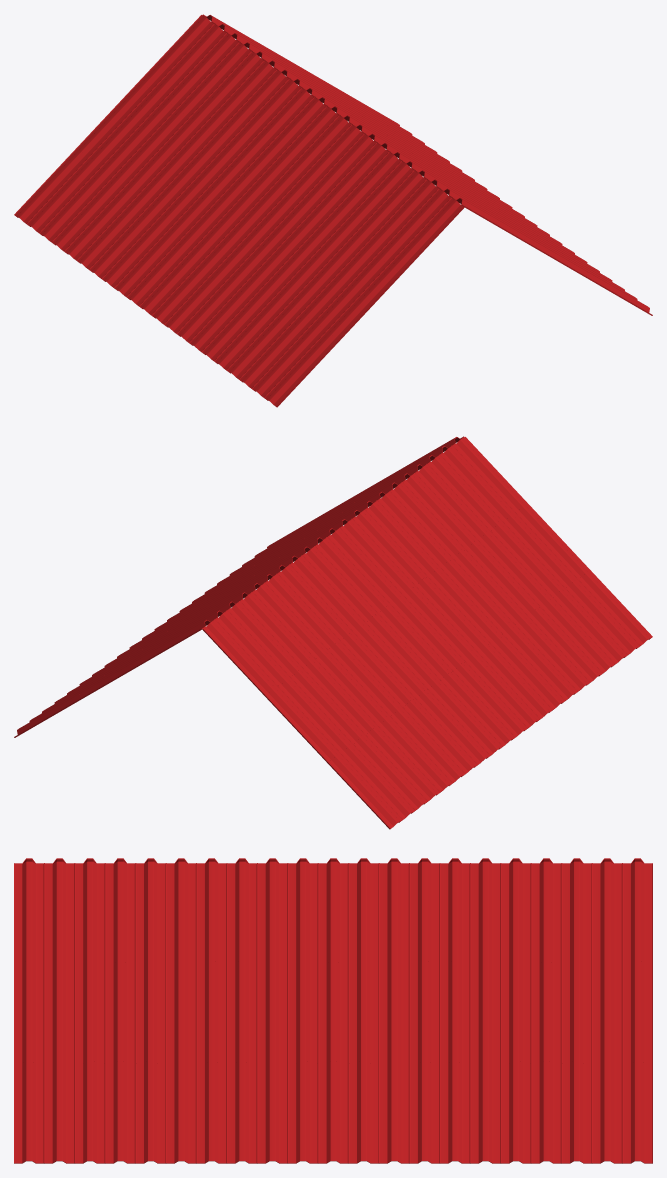
The model's file is profnastilp45_2.glb.
The picture shows the model from 3 angles, top to bottom: view 1: azimuth 30°, elevation 25°; view 2: azimuth 150°, elevation 25°; view 3: azimuth 270°, elevation 25°; orthographic projection. The views are drawn at different scales.
Parts seen in each view (by area): view 1: PROFNASTIL P45; view 2: PROFNASTIL P45; view 3: PROFNASTIL P45.
Boxes of the visible parts, x1,y1,x2,y2 form: PROFNASTIL P45: (14,14,652,407); PROFNASTIL P45: (14,436,652,829); PROFNASTIL P45: (14,858,652,1163).
Size of the model in its own units: 16.18 by 6.42 by 19.33.
